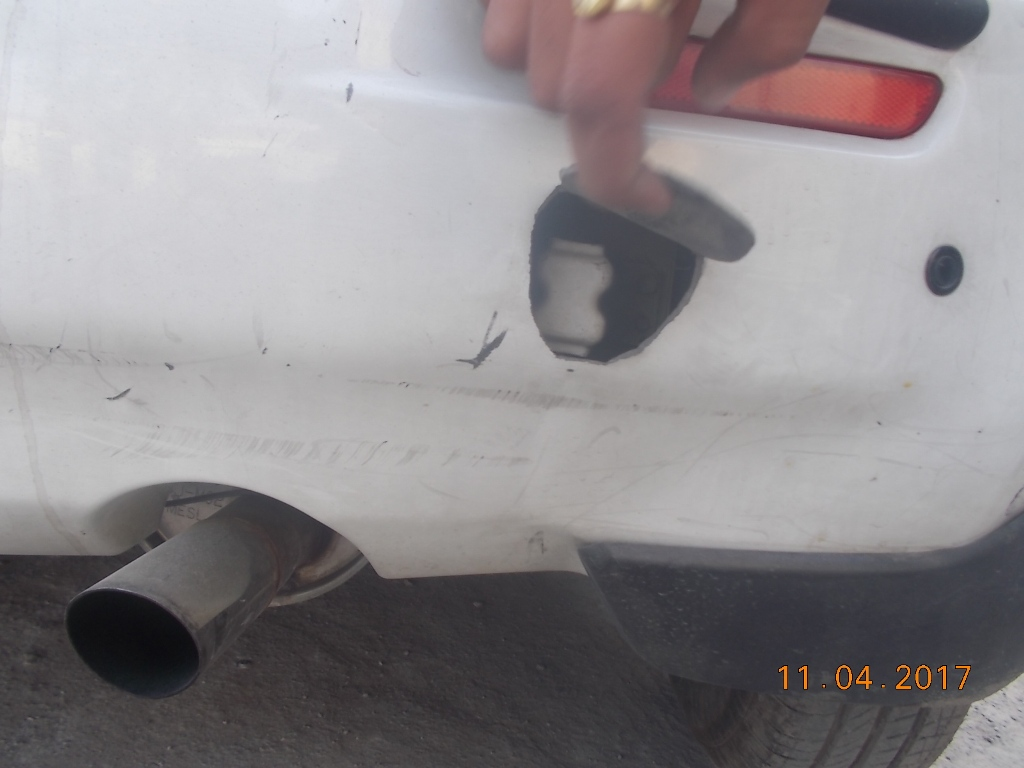Scratch_or_spot: (462, 308, 510, 379)
